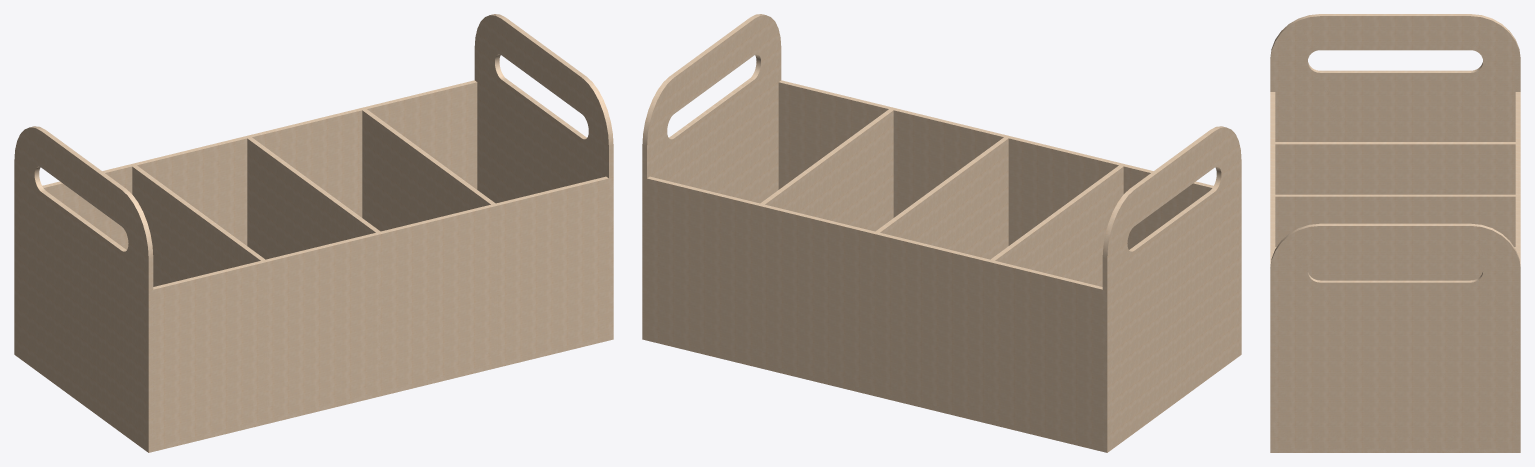
The model's file is fablab-c3.glb.
The picture shows the model from 3 angles, left to right: view 1: azimuth 30°, elevation 25°; view 2: azimuth 150°, elevation 25°; view 3: azimuth 270°, elevation 25°; orthographic projection. The views are drawn at different scales.
Parts seen in each view (by area): view 1: 3d laser cut parametric v11; view 2: 3d laser cut parametric v11; view 3: 3d laser cut parametric v11.
Part boxes in pixels (x1,y1,x2,y2): 3d laser cut parametric v11: (14,14,613,452); 3d laser cut parametric v11: (642,14,1241,452); 3d laser cut parametric v11: (1270,14,1520,452).
Size of the model in its own units: 300 by 150 by 150.
1 material, 1 textured.
